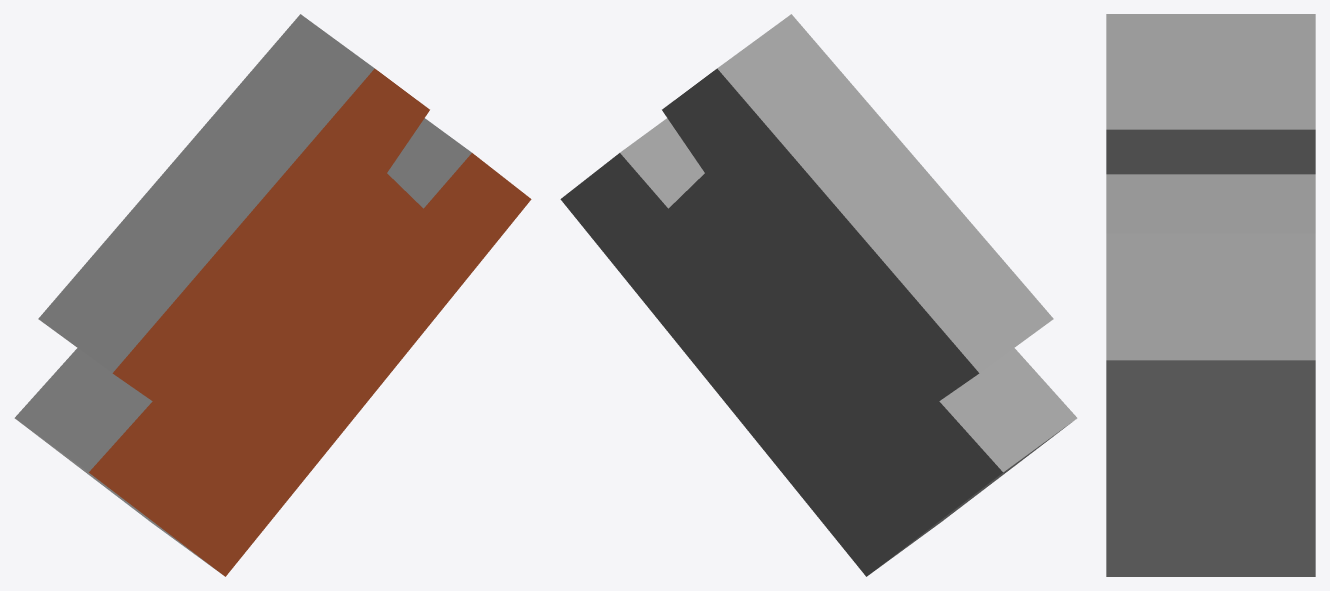
The model's file is construction_4393_assumed_A_Casa_h6m.obj.
The picture shows the model from 3 angles, left to right: view 1: azimuth 30°, elevation 25°; view 2: azimuth 150°, elevation 25°; view 3: azimuth 270°, elevation 25°; orthographic projection. The views are drawn at different scales.
Visible parts, largest first — view 1: construction_4393_assumed_A_Casa; view 2: construction_4393_assumed_A_Casa; view 3: construction_4393_assumed_A_Casa.
Boxes of the visible parts, left/top/right/bottom form: construction_4393_assumed_A_Casa: left=14, top=14, right=531, bottom=576; construction_4393_assumed_A_Casa: left=560, top=14, right=1077, bottom=576; construction_4393_assumed_A_Casa: left=1106, top=14, right=1315, bottom=576.
Size of the model in its own units: 20.64 by 21.03 by 6.
